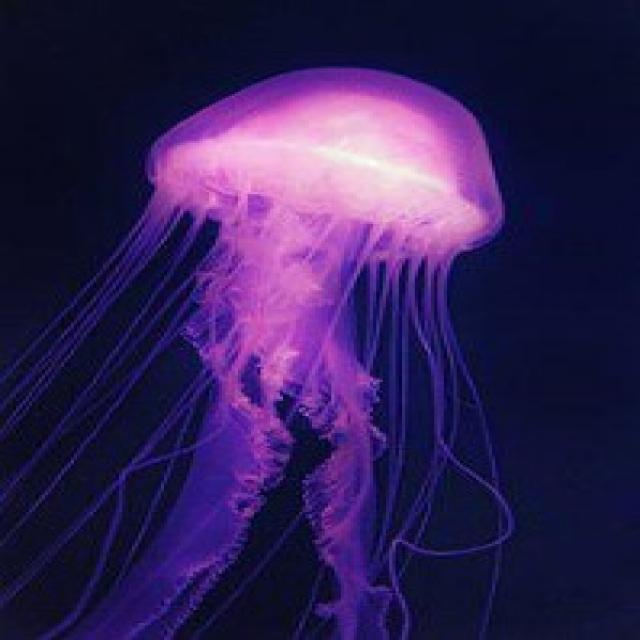Jellyfish: (0, 43, 506, 640)
